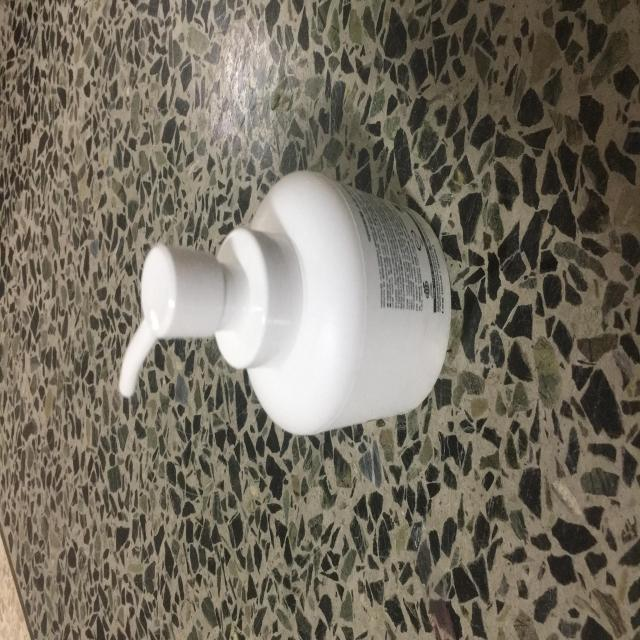bottle: (115, 164, 477, 440)
